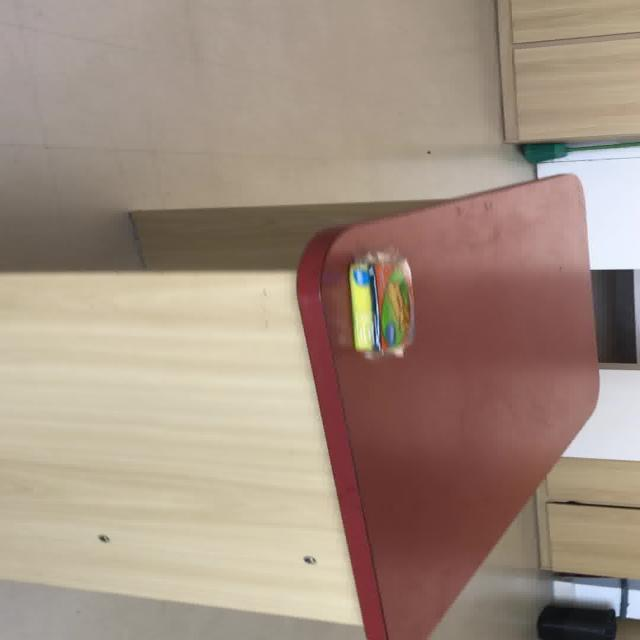sponge: (346, 248, 414, 358), (346, 258, 374, 352)
